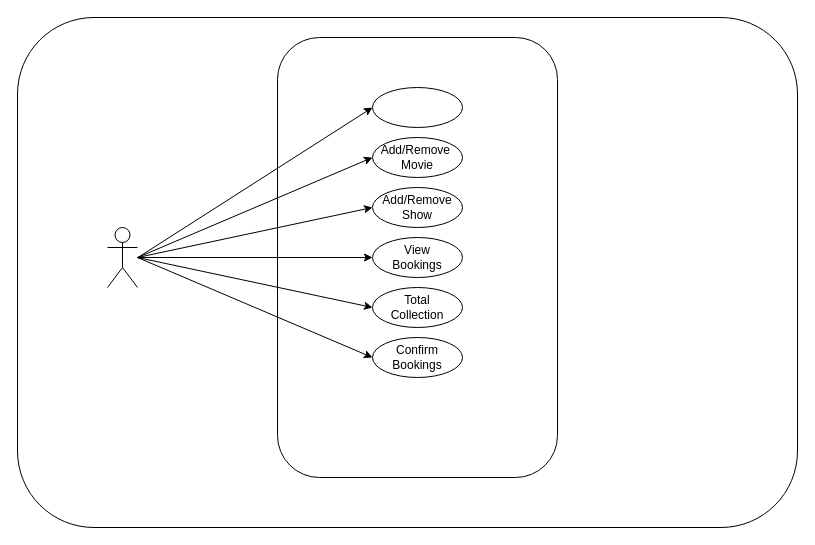
Image size: 815x545. Some labels were removed from this diagram. The centre of each missing label's shape, as x and y in pixels:
Add/Remove Screen: pixel 417 107
Theatre Admin: pixel 122 257
